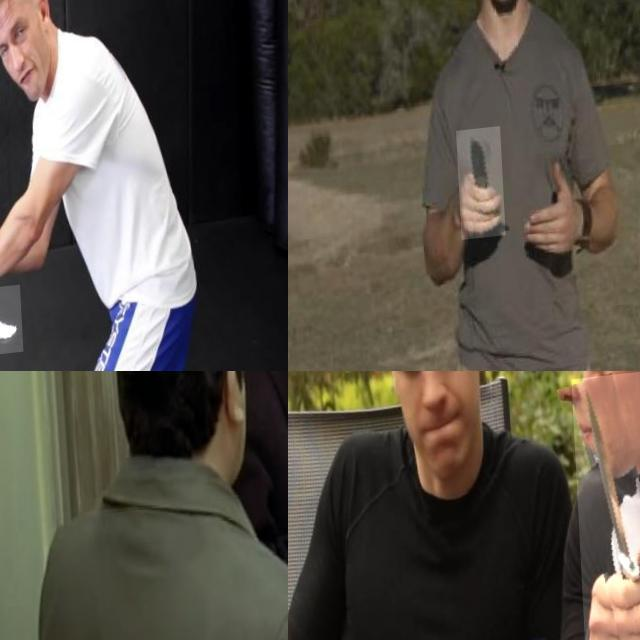-: (569, 379, 640, 640), (453, 132, 501, 245), (0, 292, 43, 367)
